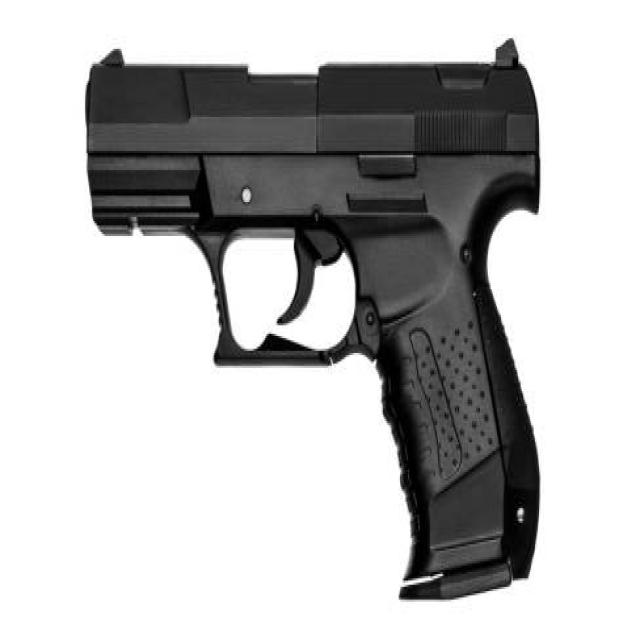pistol: (79, 34, 555, 612)
